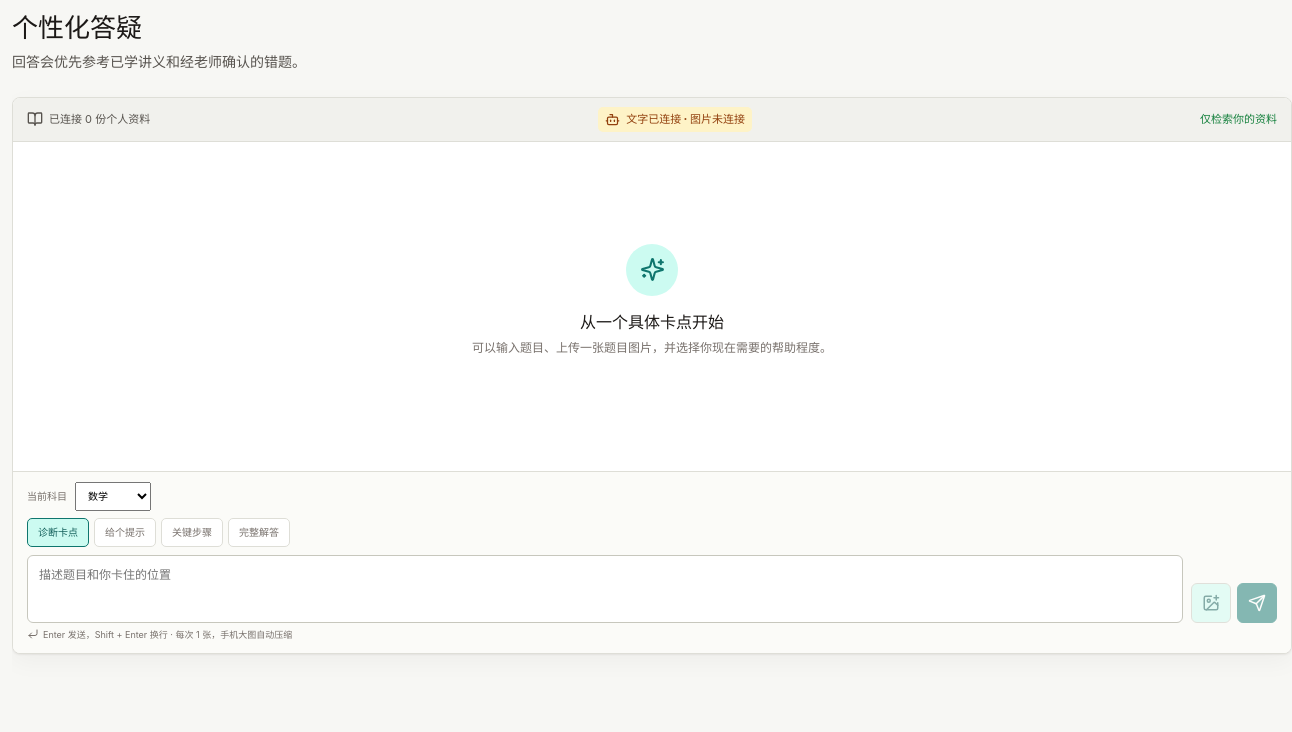
Test: TutorPage multimodal composer › locks the composer and shows the pending question while one model request is running
In the text box named "题目和卡点": {"x": 605, "y": 588} [27,554,1183,622], type "数列递推式应该怎样转成通项？"
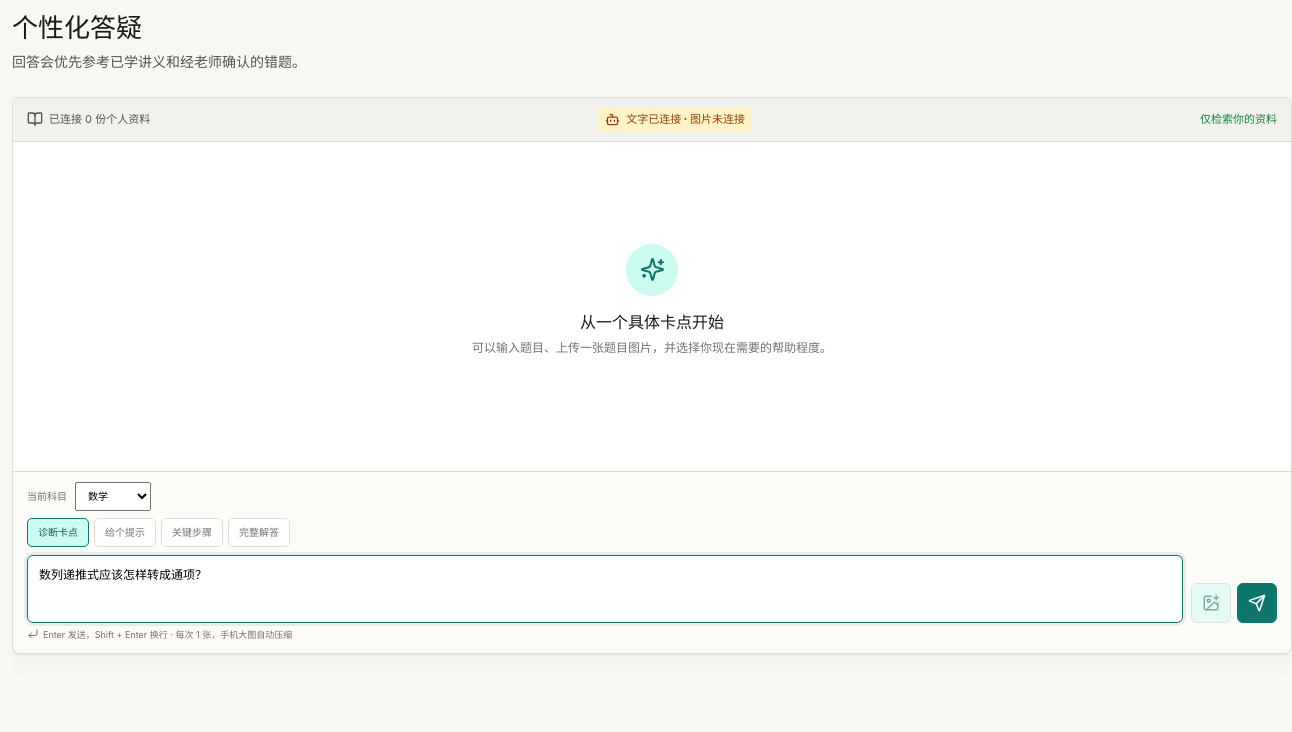
Click the button named "发送": {"x": 1257, "y": 602} [1237,582,1277,622]
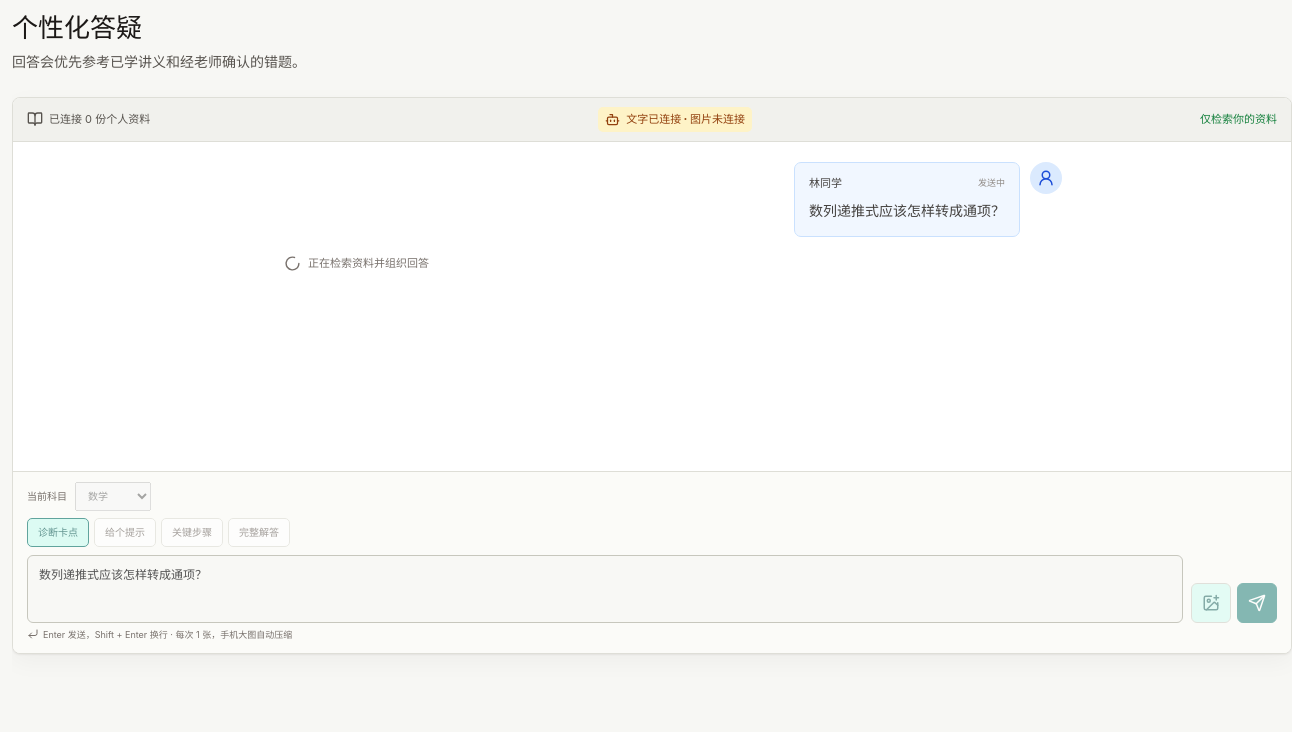
Check: the element named "正在发送的问题" shows "数列递推式应该怎样转成通项？", box [809,202,1005,219]
Check: the message reads "正在检索资料并组织回答", box [308,256,429,270]
Check: the text box named "题目和卡点" is disabled, box [27,554,1183,622]
Submit the form named "题目和卡点", box [13,470,1291,653]
Submit the form named "题目和卡点", box [13,470,1291,653]
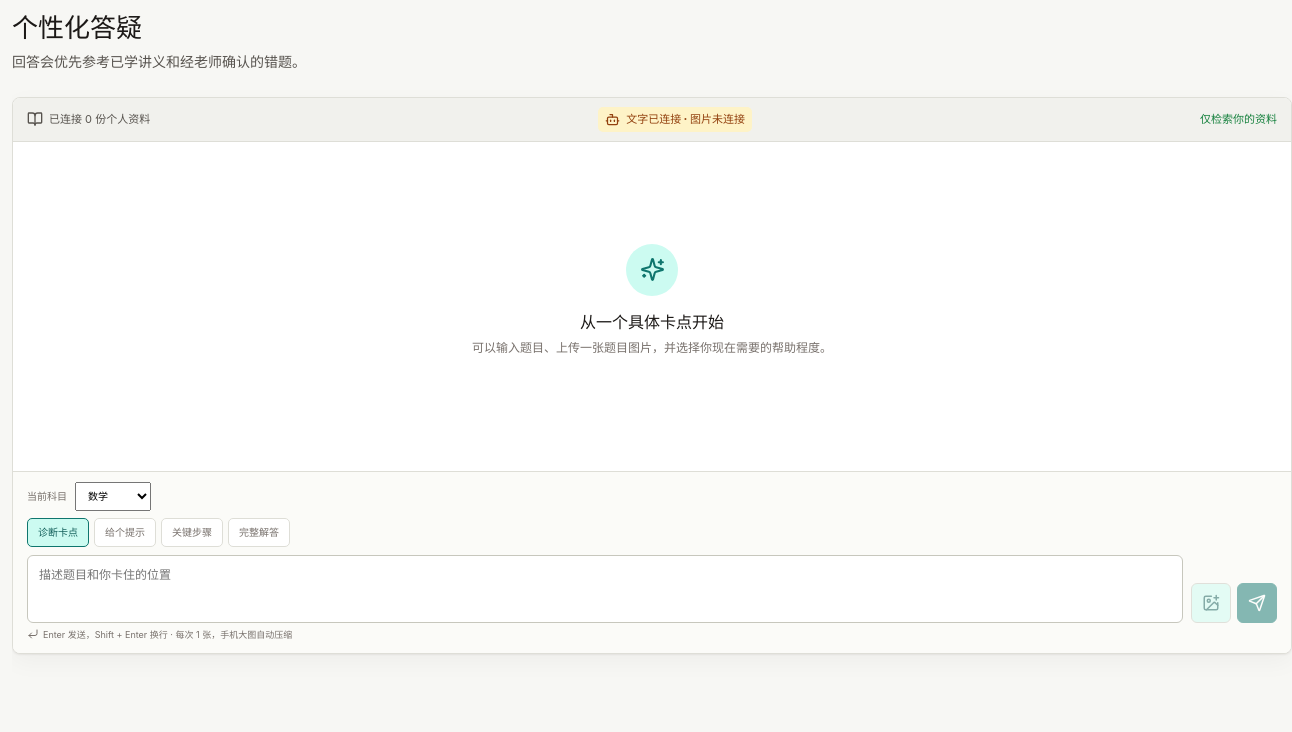
Check: the text box named "题目和卡点" is enabled, box [27,554,1183,622]
Check: the text box named "题目和卡点" is empty, box [27,554,1183,622]
